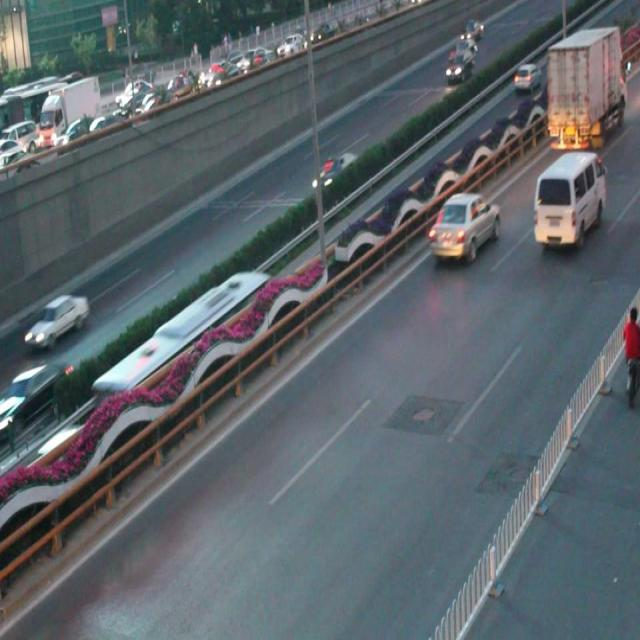car: (429, 192, 500, 262), (1, 362, 76, 427), (24, 294, 89, 348), (310, 151, 356, 195)
truck: (533, 149, 604, 248)
van: (90, 273, 272, 404)
